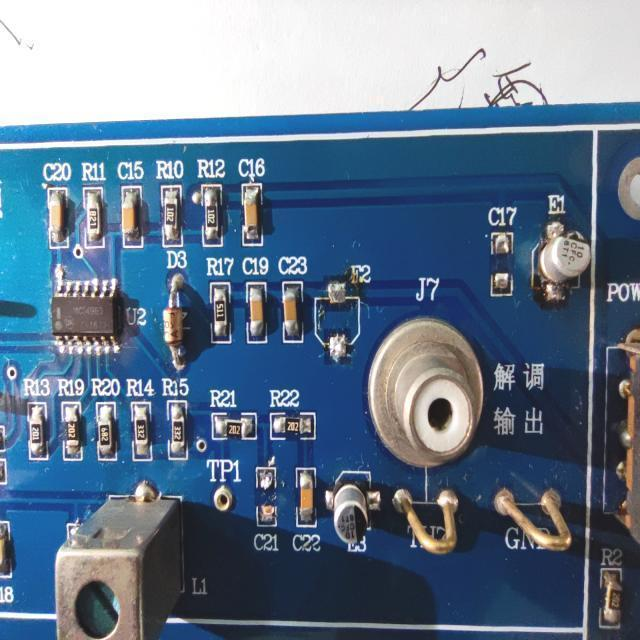Missing component: (309, 260, 373, 372), (482, 199, 523, 302), (252, 458, 282, 558)
